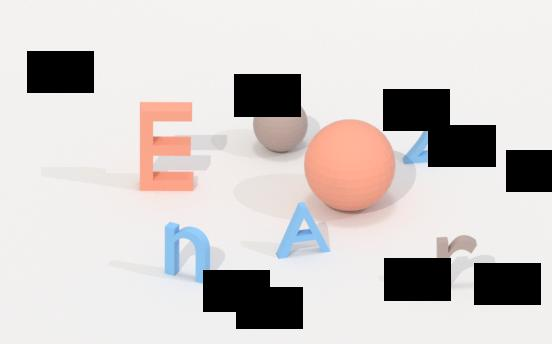2: (399, 105, 444, 171)
A-hoa: (275, 199, 331, 261)
E-hoa: (138, 101, 196, 194)
R: (434, 231, 479, 294)
cau: (302, 118, 397, 214), (254, 95, 309, 154)
tron: (159, 213, 214, 287)
